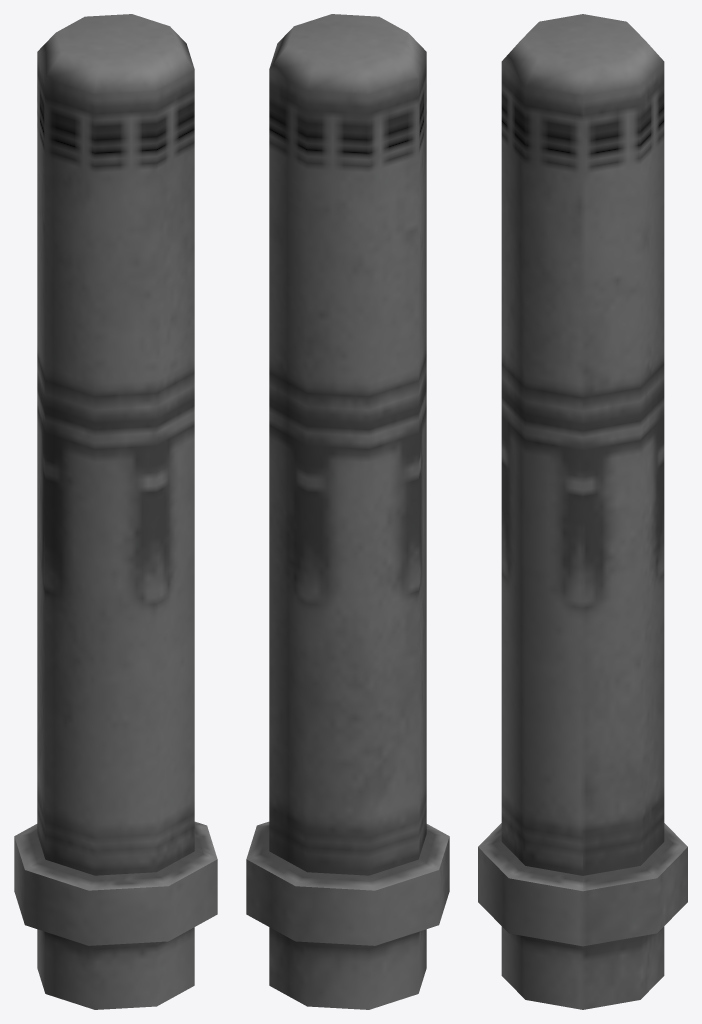
Rendered from CP_Pipe_C_End.fbx.
3 views of the same model, side by side, from view 1: azimuth 30°, elevation 25°; view 2: azimuth 150°, elevation 25°; view 3: azimuth 270°, elevation 25° (orthographic).
Visible parts, largest first — view 1: CP_Pipe_C_End; view 2: CP_Pipe_C_End; view 3: CP_Pipe_C_End.
Boxes of the visible parts, bbox=[...] form: CP_Pipe_C_End: bbox=[14, 14, 217, 1009]; CP_Pipe_C_End: bbox=[246, 14, 449, 1009]; CP_Pipe_C_End: bbox=[478, 14, 687, 1009].
Bounding box in the file's own units: 20.35 × 100 × 20.35.
